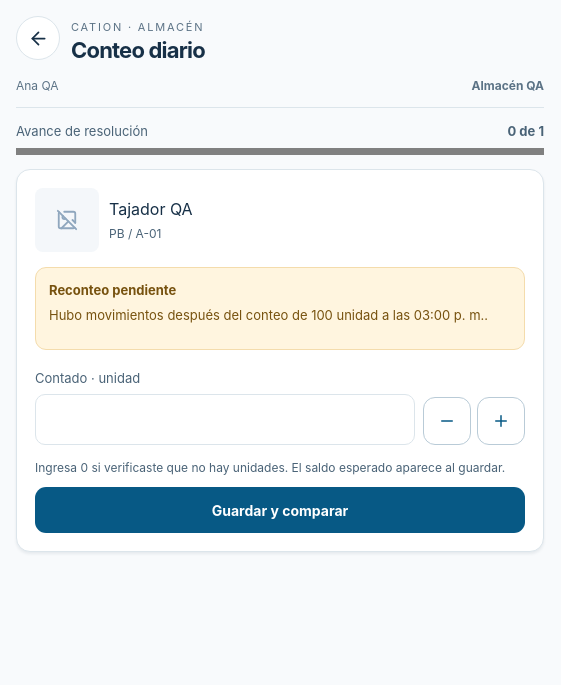
Scenario: abre un reconteo sin precargar cantidades y muestra cómo recuperar un conflicto
Expected: the field named "Cantidad contada" is empty, [35,394,415,445]
Click the button named "Sumar 1 unidad".
click(501, 421)  # box [477,397,525,445]
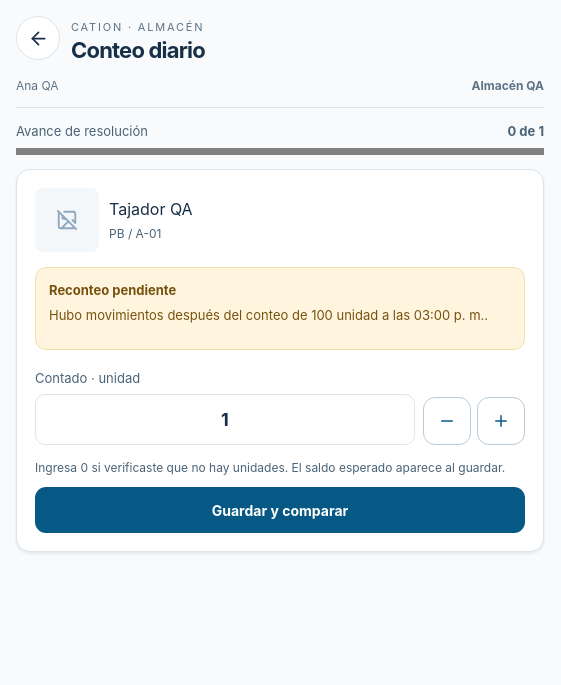
Submit the form with class "auditoria-captura", box [35,365,525,533]
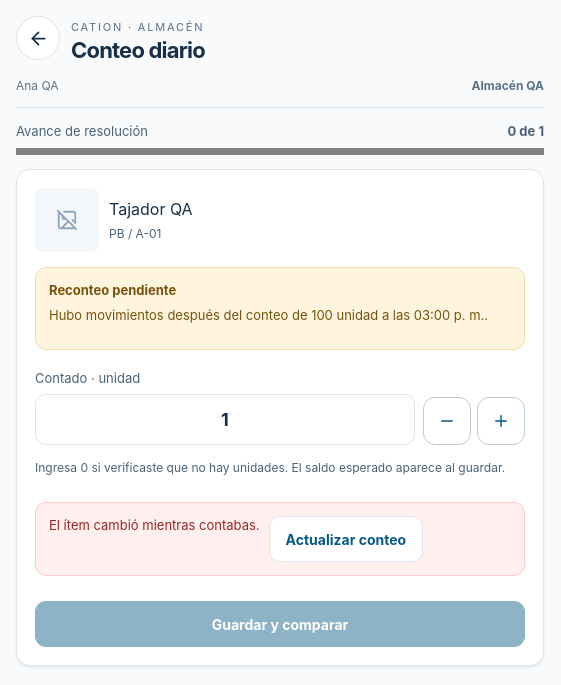
Now the button "Guardar y comparar" is disabled, box [35,601,525,647]
Click the button "Actualizar conteo".
click(346, 539)  # box [269,516,423,562]
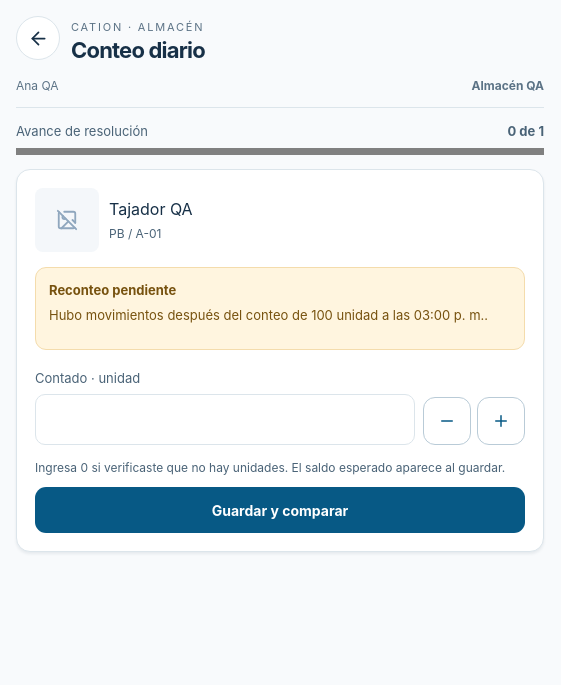
Now the button "Guardar y comparar" is enabled, box [35,487,525,533]
